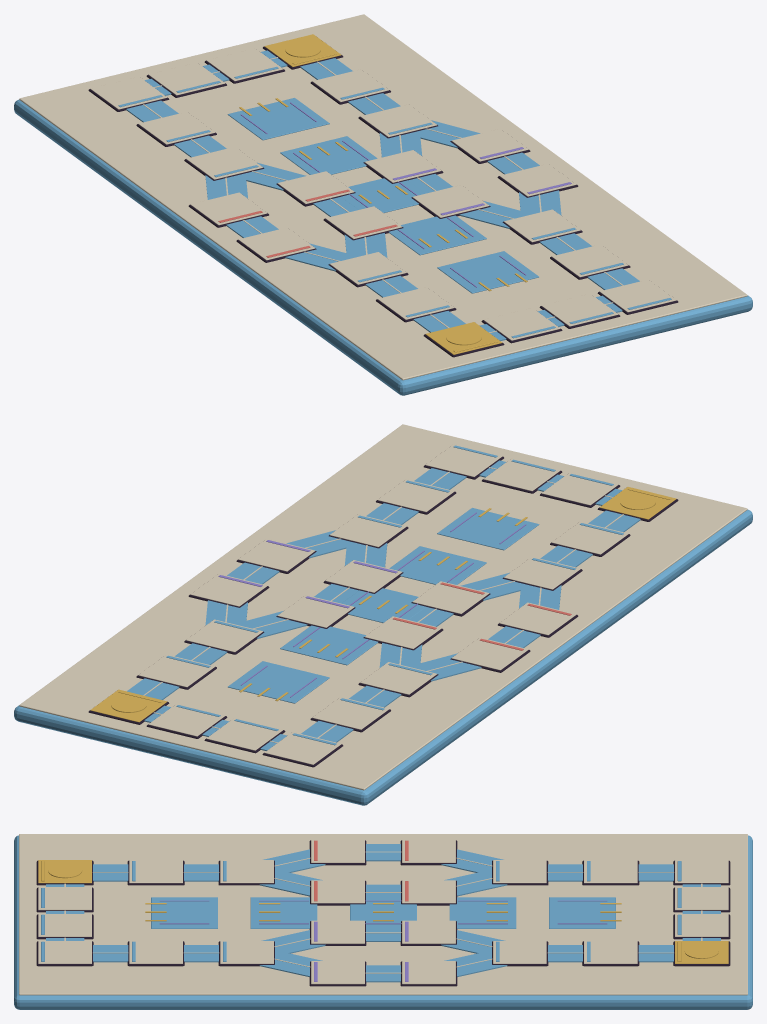
Rendered from pho_giao_hang.glb.
3 renders of one model, top to bottom at view 1: azimuth 30°, elevation 25°; view 2: azimuth 150°, elevation 25°; view 3: azimuth 270°, elevation 25°, orthographic. The views are drawn at different scales.
Parts seen in each view (by area): view 1: City_pavement, Road_network, City_base, Plaza_0, Plaza_4, Plaza_3, Plaza_1, Plaza_2, Tile_face_C01, Tile_face_C07, Tile_face_C05, Tile_face_C06 (+20 smaller); view 2: City_pavement, Road_network, City_base, Plaza_4, Plaza_0, Plaza_1, Plaza_3, Plaza_2, Tile_face_C14, Tile_face_F01_L1, Tile_face_C03, Tile_face_C04 (+20 smaller); view 3: City_pavement, Road_network, City_base, Plaza_0, Plaza_4, Plaza_1, Plaza_3, Plaza_2, Tile_face_F02_L1, Tile_face_F02_L2, Tile_face_C01, Tile_face_C02 (+22 smaller).
Part boxes in pixels (x1,y1,x2,y2): City_pavement: (19, 14, 747, 380); Road_network: (126, 50, 639, 340); City_base: (14, 99, 752, 395); Plaza_0: (227, 98, 329, 140); Plaza_4: (437, 251, 538, 293); Plaza_3: (388, 215, 486, 255); Plaza_1: (280, 136, 377, 174); Plaza_2: (341, 178, 425, 212); Tile_face_C01: (377, 287, 454, 319); Tile_face_C07: (206, 48, 283, 81); Tile_face_C05: (90, 77, 167, 109); Tile_face_C06: (148, 62, 225, 95); City_pavement: (19, 424, 747, 790); Road_network: (127, 460, 640, 750); City_base: (14, 509, 752, 805); Plaza_4: (437, 508, 539, 550); Plaza_0: (228, 661, 329, 703); Plaza_1: (280, 625, 378, 665); Plaza_3: (389, 546, 486, 584); Plaza_2: (341, 588, 425, 622); Tile_face_C14: (483, 458, 560, 491); Tile_face_F01_L1: (499, 602, 576, 635); Tile_face_C03: (360, 662, 436, 694); Tile_face_C04: (312, 697, 389, 729); City_pavement: (19, 834, 747, 995); Road_network: (46, 844, 720, 982); City_base: (14, 835, 752, 1009); Plaza_0: (549, 897, 615, 928); Plaza_4: (151, 897, 217, 928); Plaza_1: (449, 897, 516, 928); Plaza_3: (250, 897, 317, 928); Plaza_2: (350, 897, 416, 928); Tile_face_F02_L1: (402, 920, 455, 943); Tile_face_F02_L2: (311, 920, 364, 943); Tile_face_C01: (129, 860, 182, 883); Tile_face_C02: (220, 860, 273, 883).
Bounding box in the file's own units: 13.68 × 0.738 × 26.
